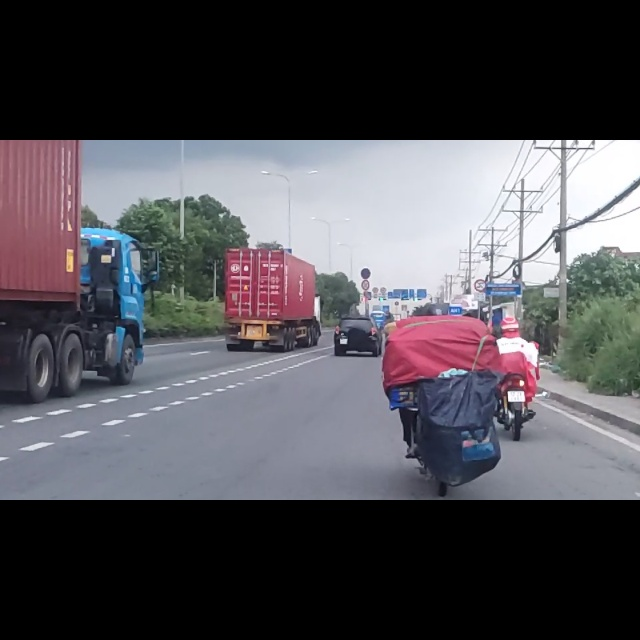bien_chi_dan: (475, 247, 486, 273), (361, 228, 371, 247)
